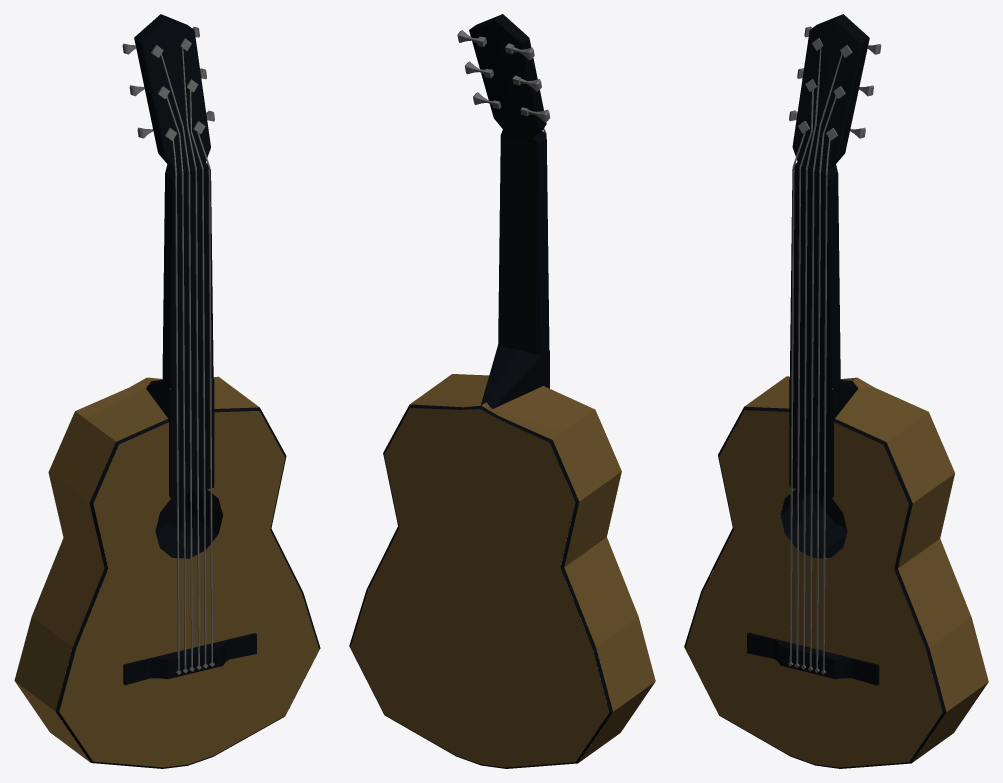
File: Guitar-transformed.glb
The picture shows the model from 3 angles, left to right: view 1: azimuth 30°, elevation 25°; view 2: azimuth 150°, elevation 25°; view 3: azimuth 330°, elevation 25°; orthographic projection.
Visible parts, largest first — view 1: Guitar1; view 2: Guitar1; view 3: Guitar1.
Boxes of the visible parts, x1=… form: Guitar1: x1=14, y1=14, x2=320, y2=768; Guitar1: x1=349, y1=14, x2=655, y2=768; Guitar1: x1=684, y1=14, x2=988, y2=768.
Bounding box in the file's own units: 0.5787 × 1.53 × 0.1976.
